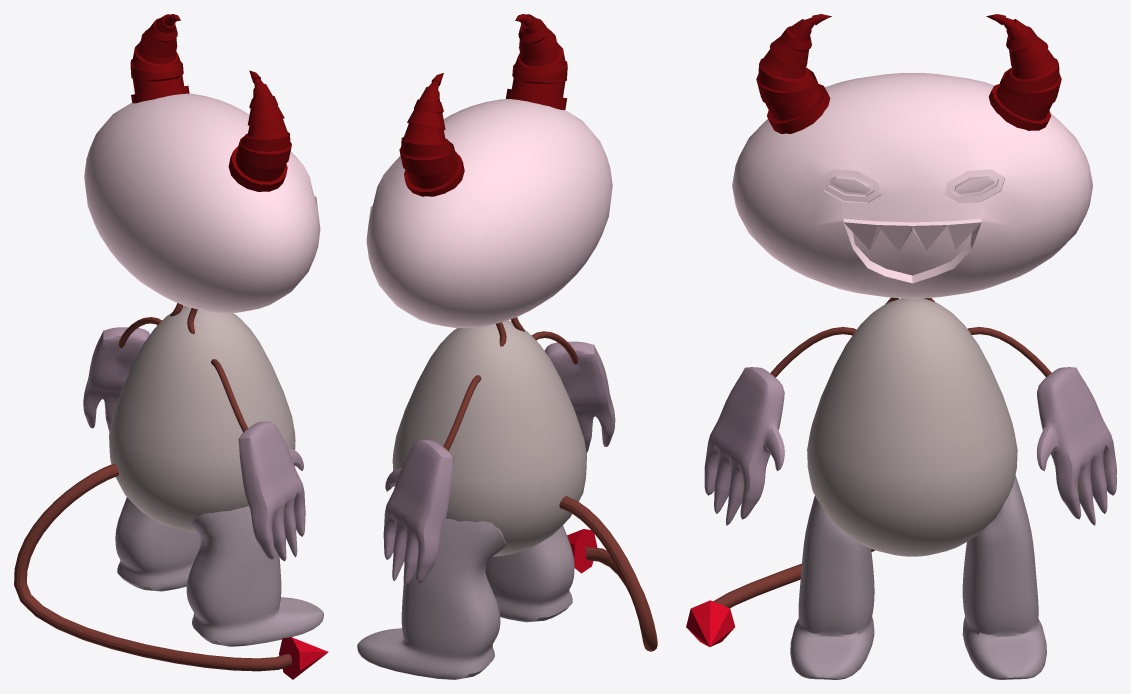
The model's file is ENEMY.fbx.
3 renders of one model, left to right at view 1: azimuth 30°, elevation 25°; view 2: azimuth 150°, elevation 25°; view 3: azimuth 270°, elevation 25°, orthographic. The views are drawn at different scales.
Parts seen in each view (by area): view 1: Enemy_01; view 2: Enemy_01; view 3: Enemy_01.
Boxes of the visible parts, left/top/right/bottom form: Enemy_01: left=14, top=14, right=328, bottom=679; Enemy_01: left=357, top=14, right=657, bottom=679; Enemy_01: left=686, top=14, right=1116, bottom=679.
Size of the model in its own units: 46.45 by 58.59 by 95.44.
